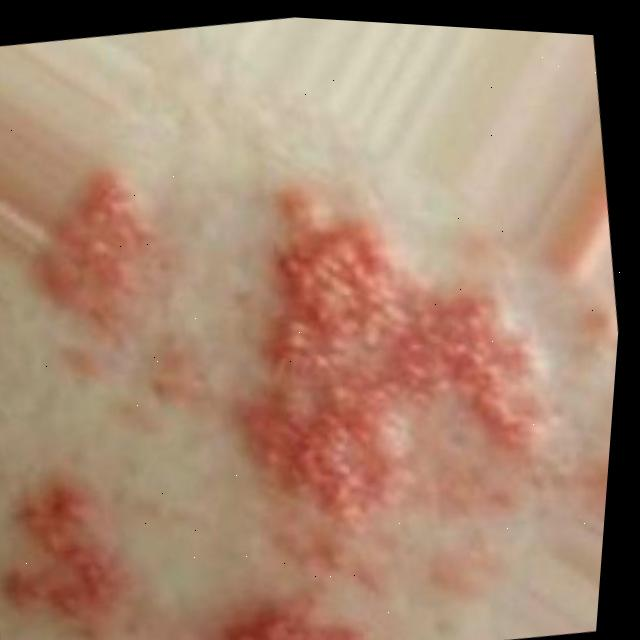Shingles: (217, 153, 578, 547), (17, 158, 174, 336), (0, 481, 131, 640), (214, 582, 390, 640)
